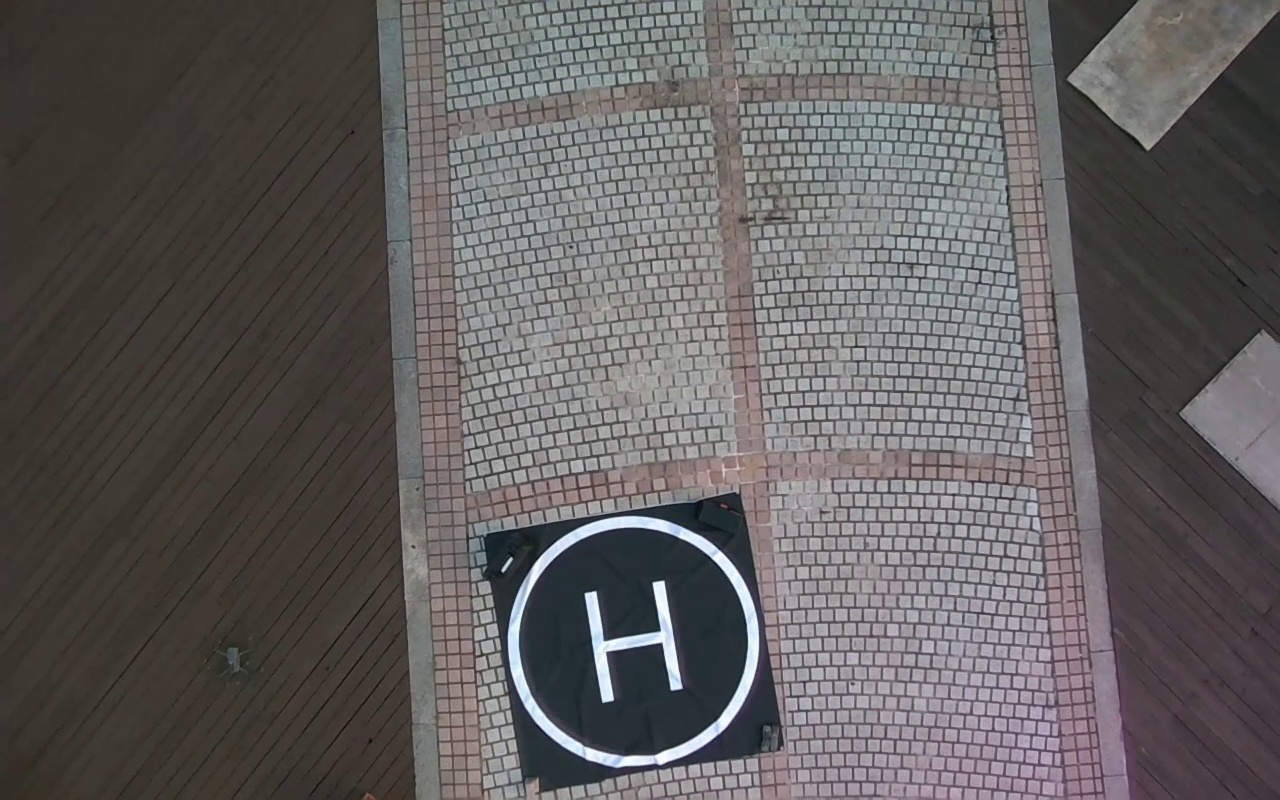H: (583, 580, 683, 702)
heliport: (508, 513, 762, 769)
